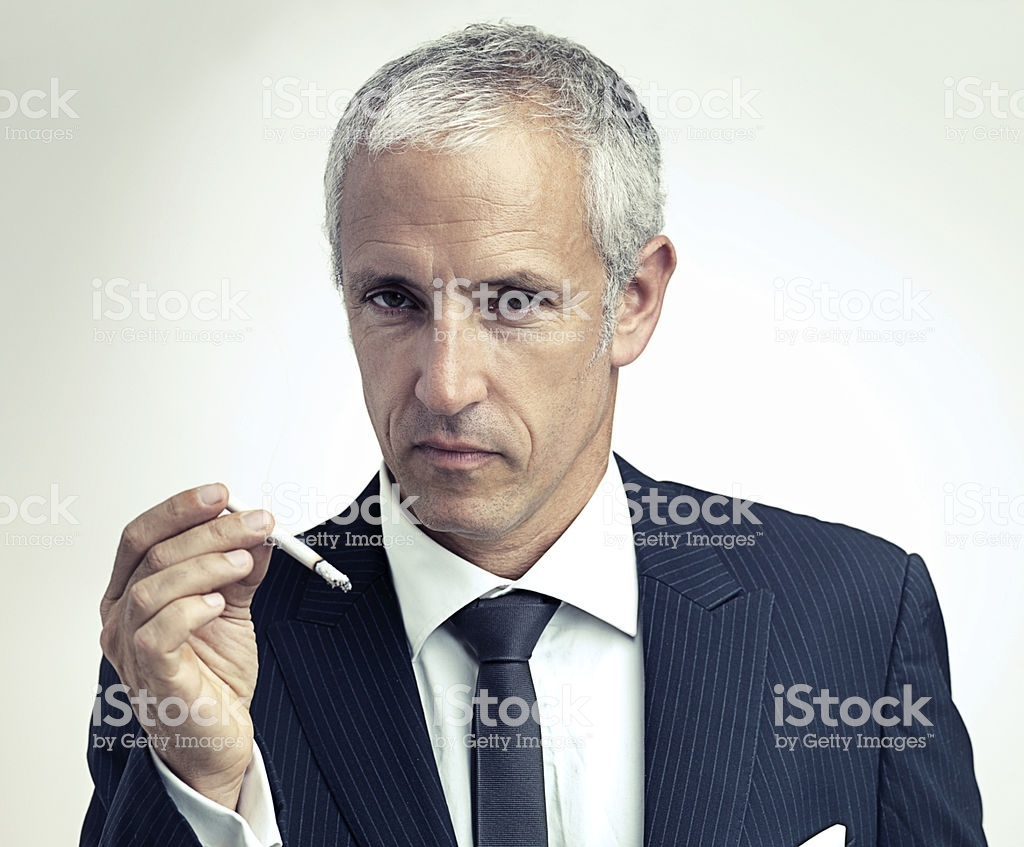sigaretta: (216, 480, 360, 596)
